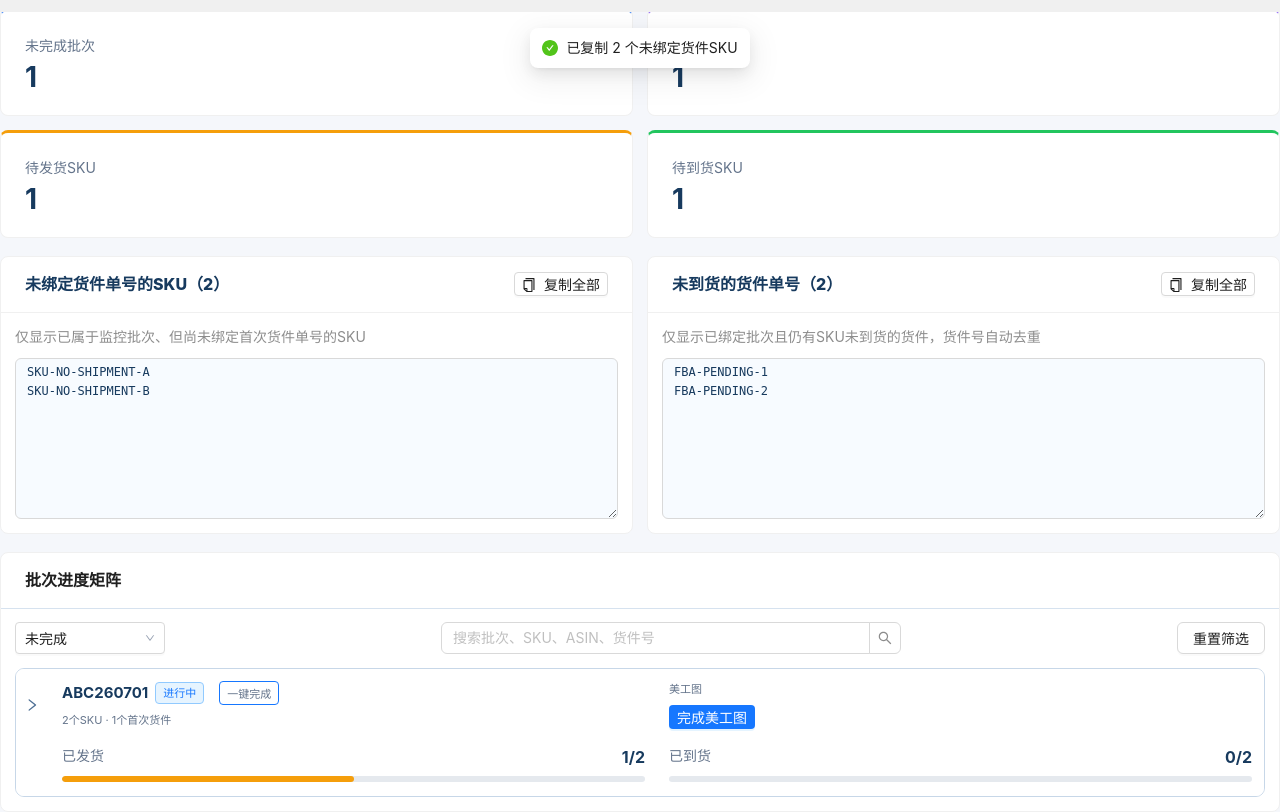
BatchMonitorPage › loads incomplete batches by default and expands SKU details lazily
This screenshot has width=1280, height=812.
(page scrolled)
Expected: the text "ABC260701" is shown, [62,681,148,705]
Expected: the text "已发货" is shown, [62,745,104,770]
Step 1. Click the button named "展开ABC260701" → [32, 705], box [16,689,48,721]
(page scrolled)
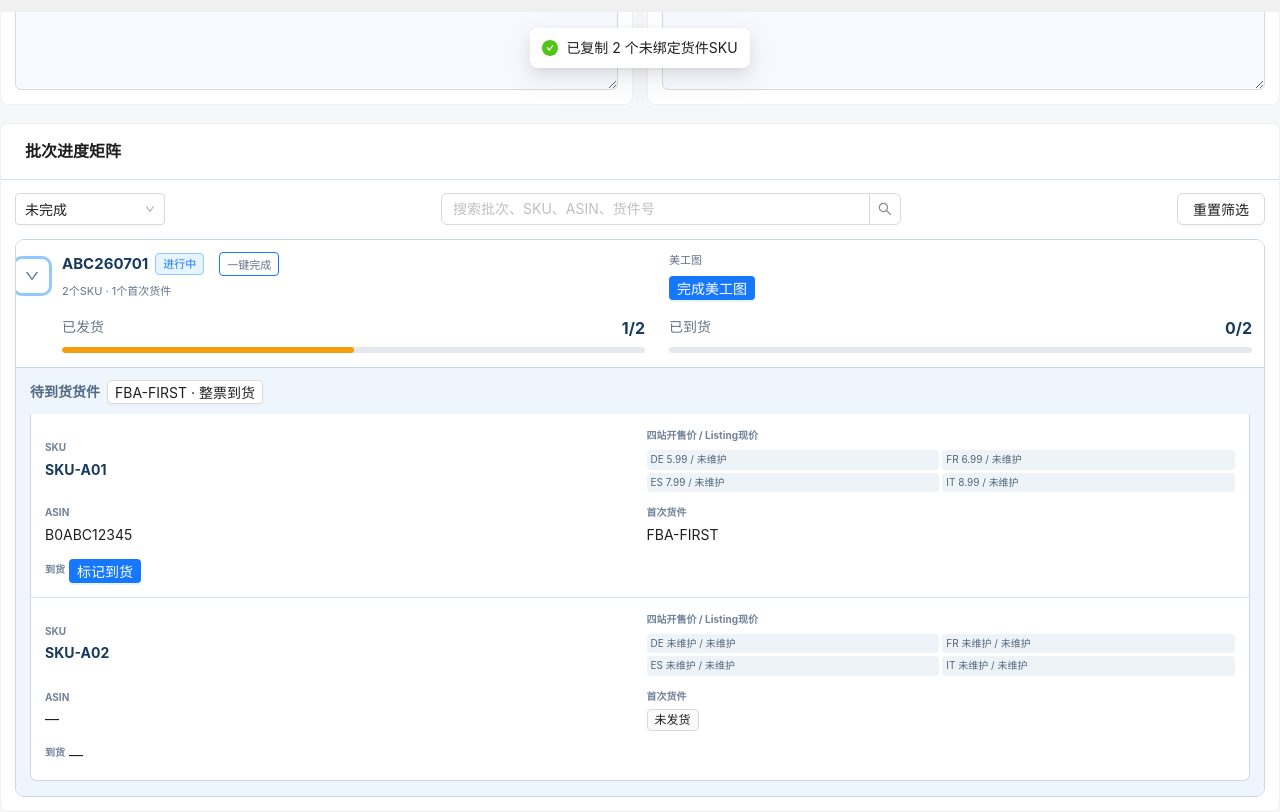
Result: the text "SKU-A01" is shown at [45,461,106,478]
